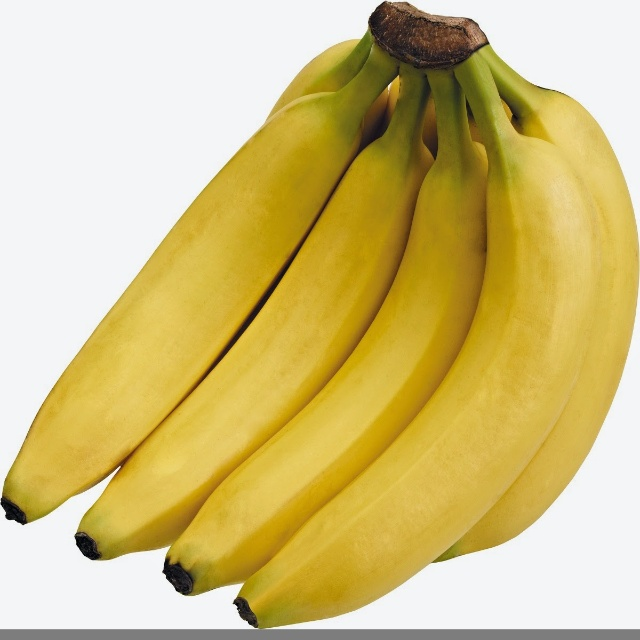chuoi: (12, 14, 627, 618)
